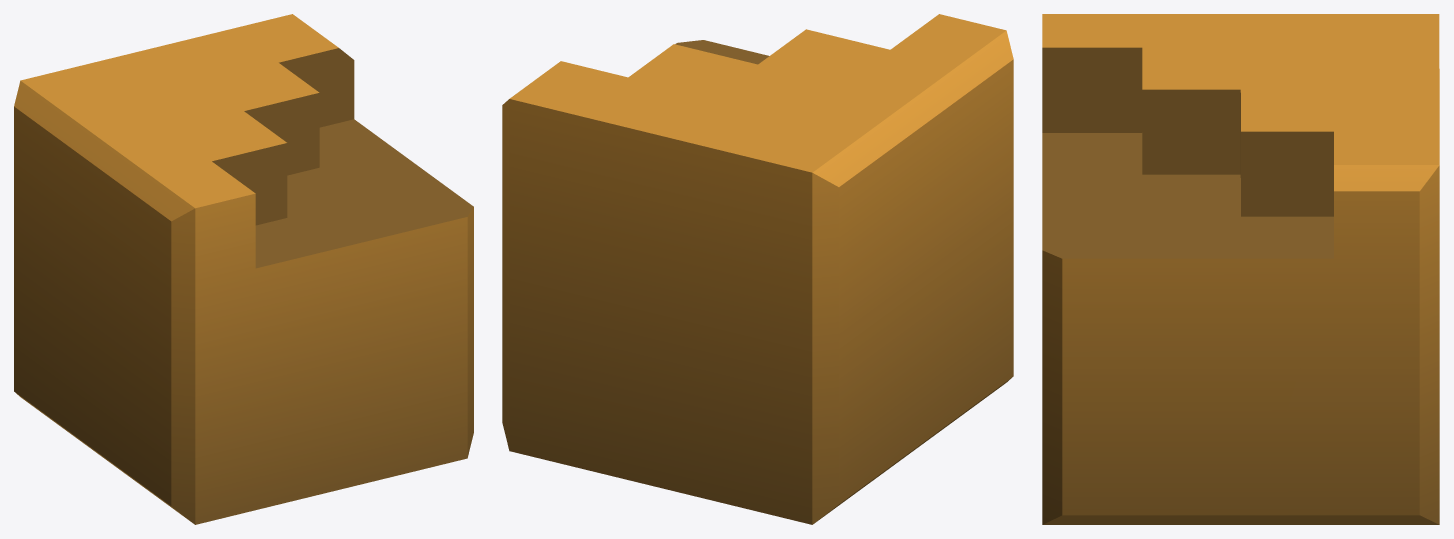
Rendered from Tile_Ladder_Gold.fbx.
The picture shows the model from 3 angles, left to right: view 1: azimuth 30°, elevation 25°; view 2: azimuth 150°, elevation 25°; view 3: azimuth 270°, elevation 25°; orthographic projection. The views are drawn at different scales.
Parts seen in each view (by area): view 1: Tile Tangga Emas; view 2: Tile Tangga Emas; view 3: Tile Tangga Emas.
Part boxes in pixels (x1,y1,x2,y2): Tile Tangga Emas: [14, 14, 473, 524]; Tile Tangga Emas: [502, 14, 1013, 524]; Tile Tangga Emas: [1042, 14, 1439, 524].
Size of the model in its own units: 1 by 1 by 1.
1 material, 1 textured.
